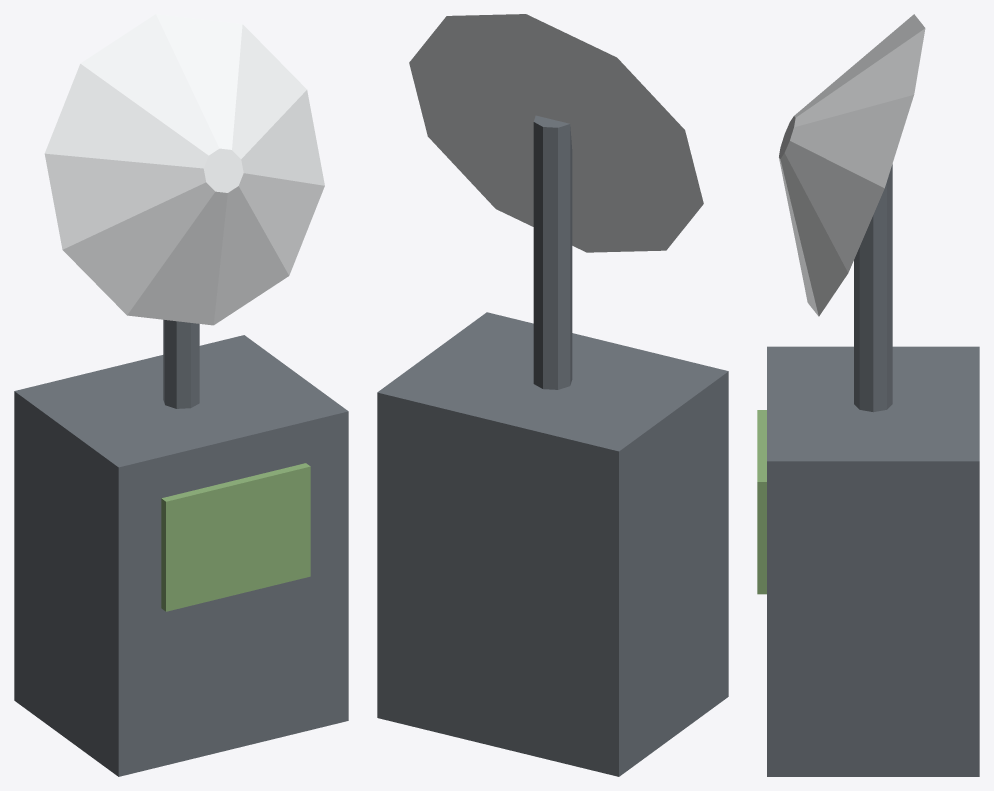
File: SM_WeatherRadar.fbx
The picture shows the model from 3 angles, left to right: view 1: azimuth 30°, elevation 25°; view 2: azimuth 150°, elevation 25°; view 3: azimuth 270°, elevation 25°; orthographic projection. The views are drawn at different scales.
Visible parts, largest first — view 1: SM_WeatherRadar; view 2: SM_WeatherRadar; view 3: SM_WeatherRadar.
Part boxes in pixels (x1,y1,x2,y2): SM_WeatherRadar: (14, 14, 348, 776); SM_WeatherRadar: (377, 14, 728, 776); SM_WeatherRadar: (757, 14, 979, 776).
Bounding box in the file's own units: 7989 × 5750 × 19716.
